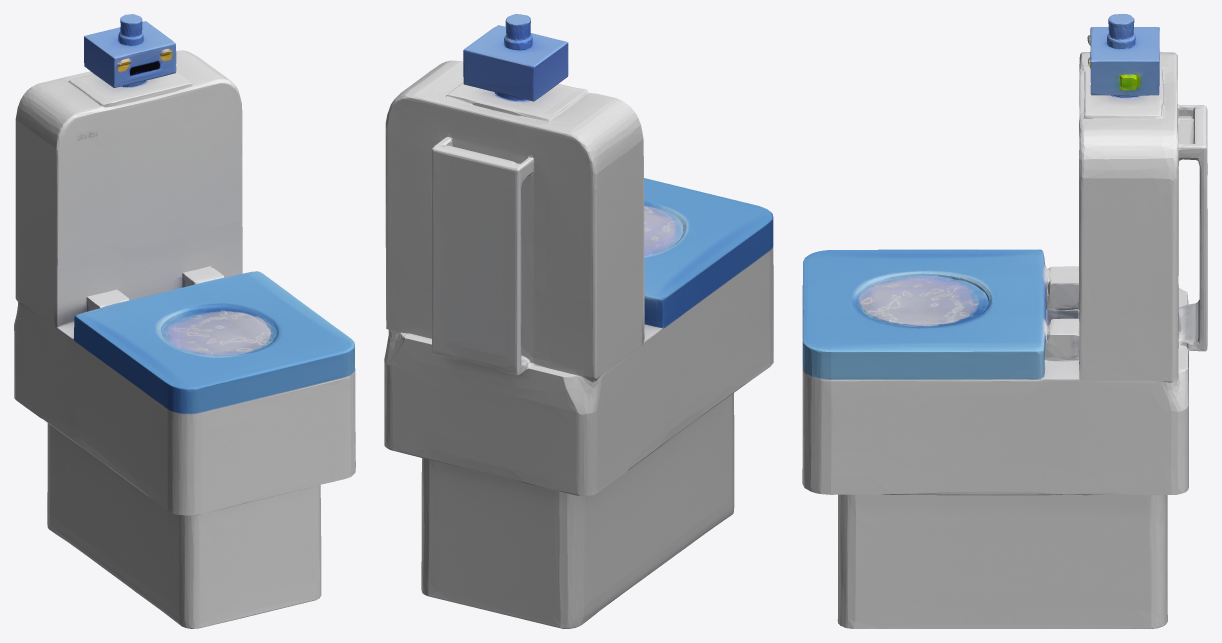
The model's file is f806a3a7-b146-4af6-8c48-02a1cdab7f98.glb.
3 renders of one model, left to right at view 1: azimuth 30°, elevation 25°; view 2: azimuth 150°, elevation 25°; view 3: azimuth 270°, elevation 25°, orthographic. The views are drawn at different scales.
Visible parts, largest first — view 1: world; view 2: world; view 3: world.
Part boxes in pixels (<box>): world: <box>14,14,355,628</box>; world: <box>384,14,773,628</box>; world: <box>802,14,1207,628</box>.
Bounding box in the file's own units: 0.3862 × 1 × 0.6426.
Materials: 1 (1 with a texture image).
